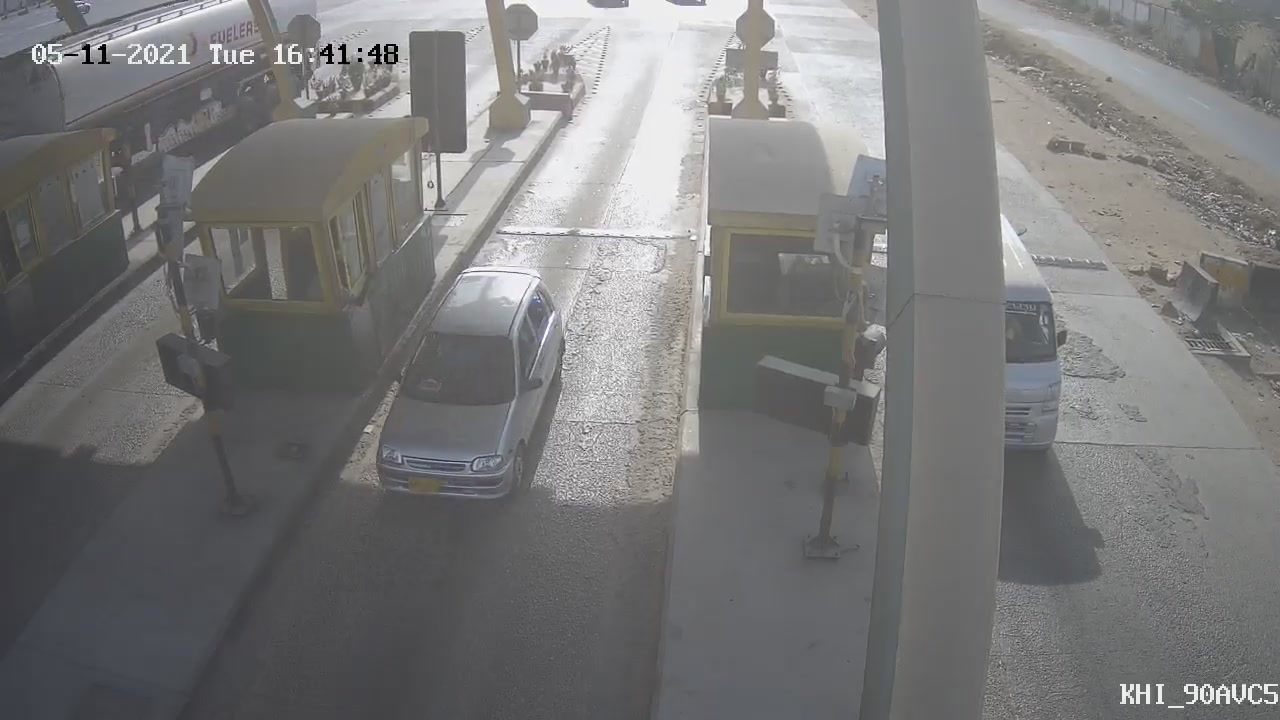F1: (363, 256, 583, 524)
